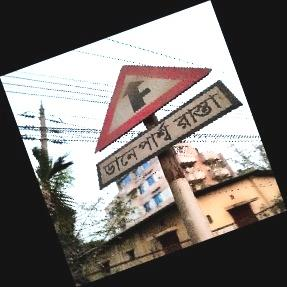Side-road-right: (93, 65, 244, 196)
